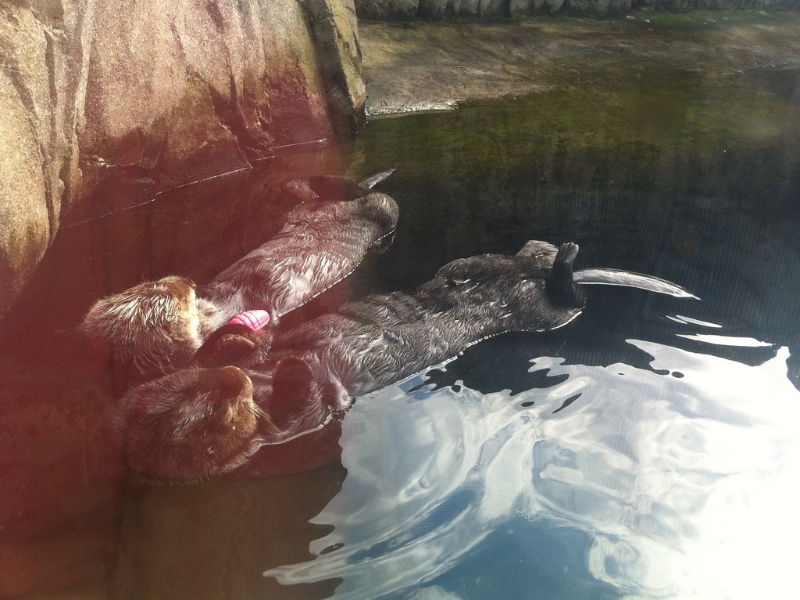minkish: (120, 237, 598, 483), (86, 162, 415, 378)
